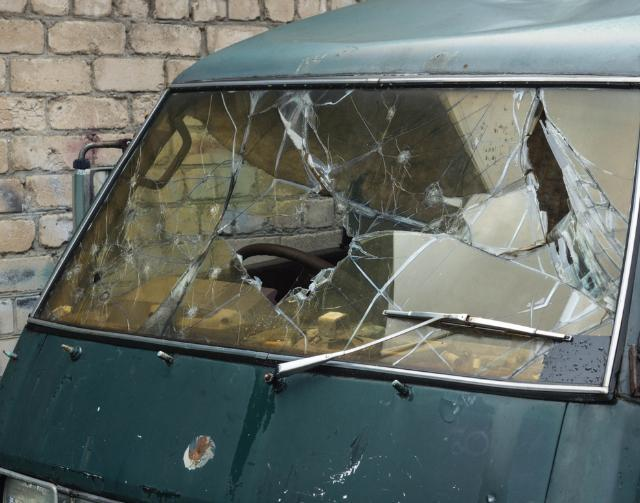Bonnet: (158, 429, 497, 503)
Windshield: (42, 81, 626, 377)
